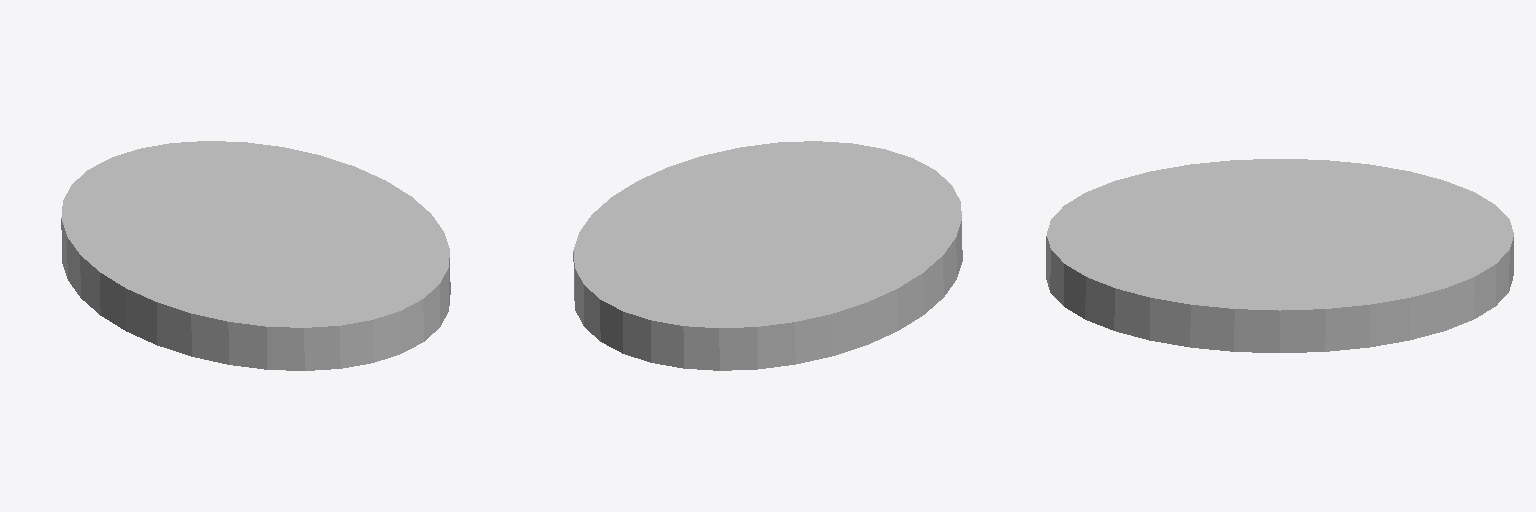
File: tree stump 1.obj
3 views of the same model, side by side, from view 1: azimuth 30°, elevation 25°; view 2: azimuth 150°, elevation 25°; view 3: azimuth 270°, elevation 25° (orthographic).
Visible parts, largest first — view 1: Cylinder; view 2: Cylinder; view 3: Cylinder.
Part boxes in pixels (x1,y1,x2,y2): Cylinder: (61, 141, 450, 370); Cylinder: (573, 141, 962, 370); Cylinder: (1046, 159, 1513, 352).
Size of the model in its own units: 4.23 by 0.5572 by 5.51.